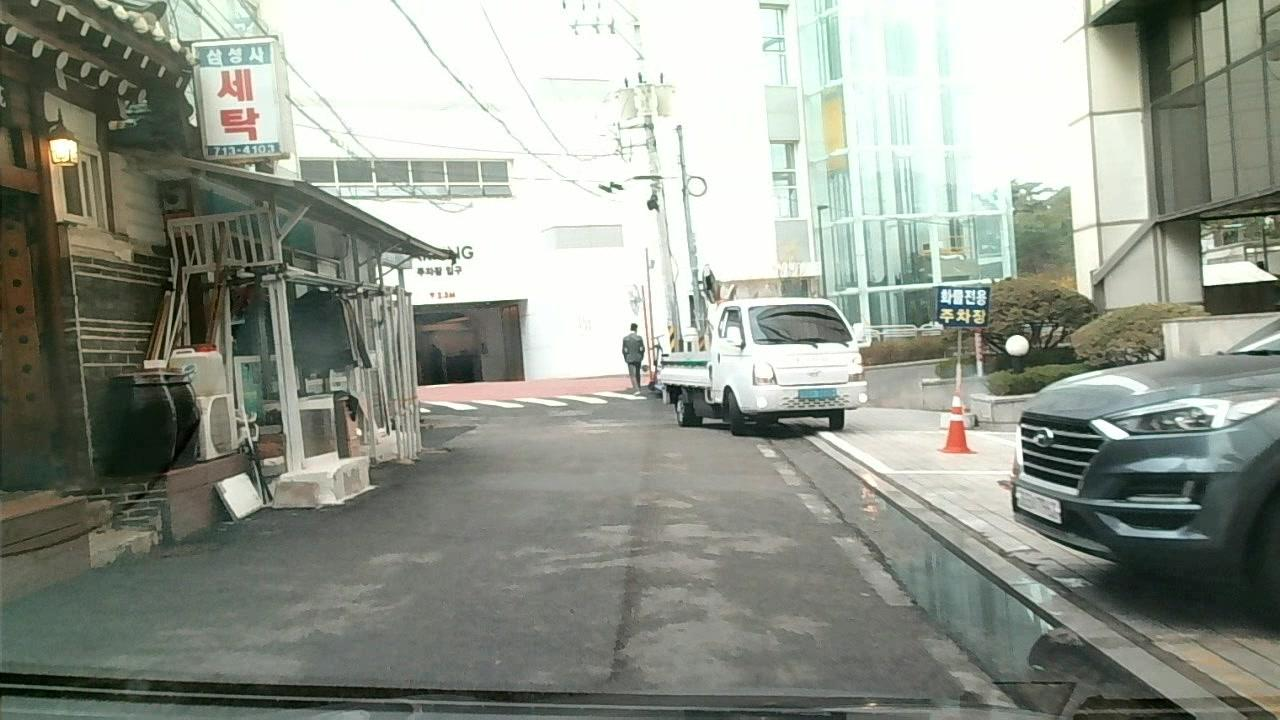banner: (602, 567, 633, 693)
